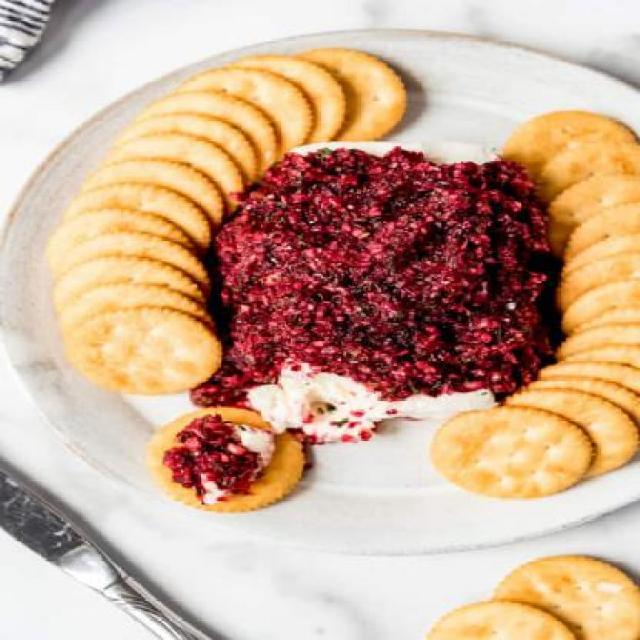Ritz cracker packaged: (53, 38, 373, 390), (438, 87, 639, 504)
